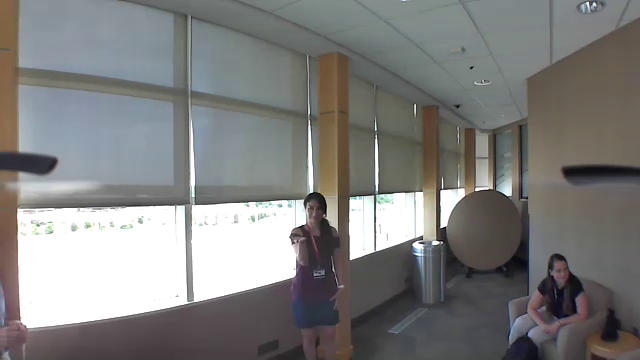land: (285, 234, 310, 248)
